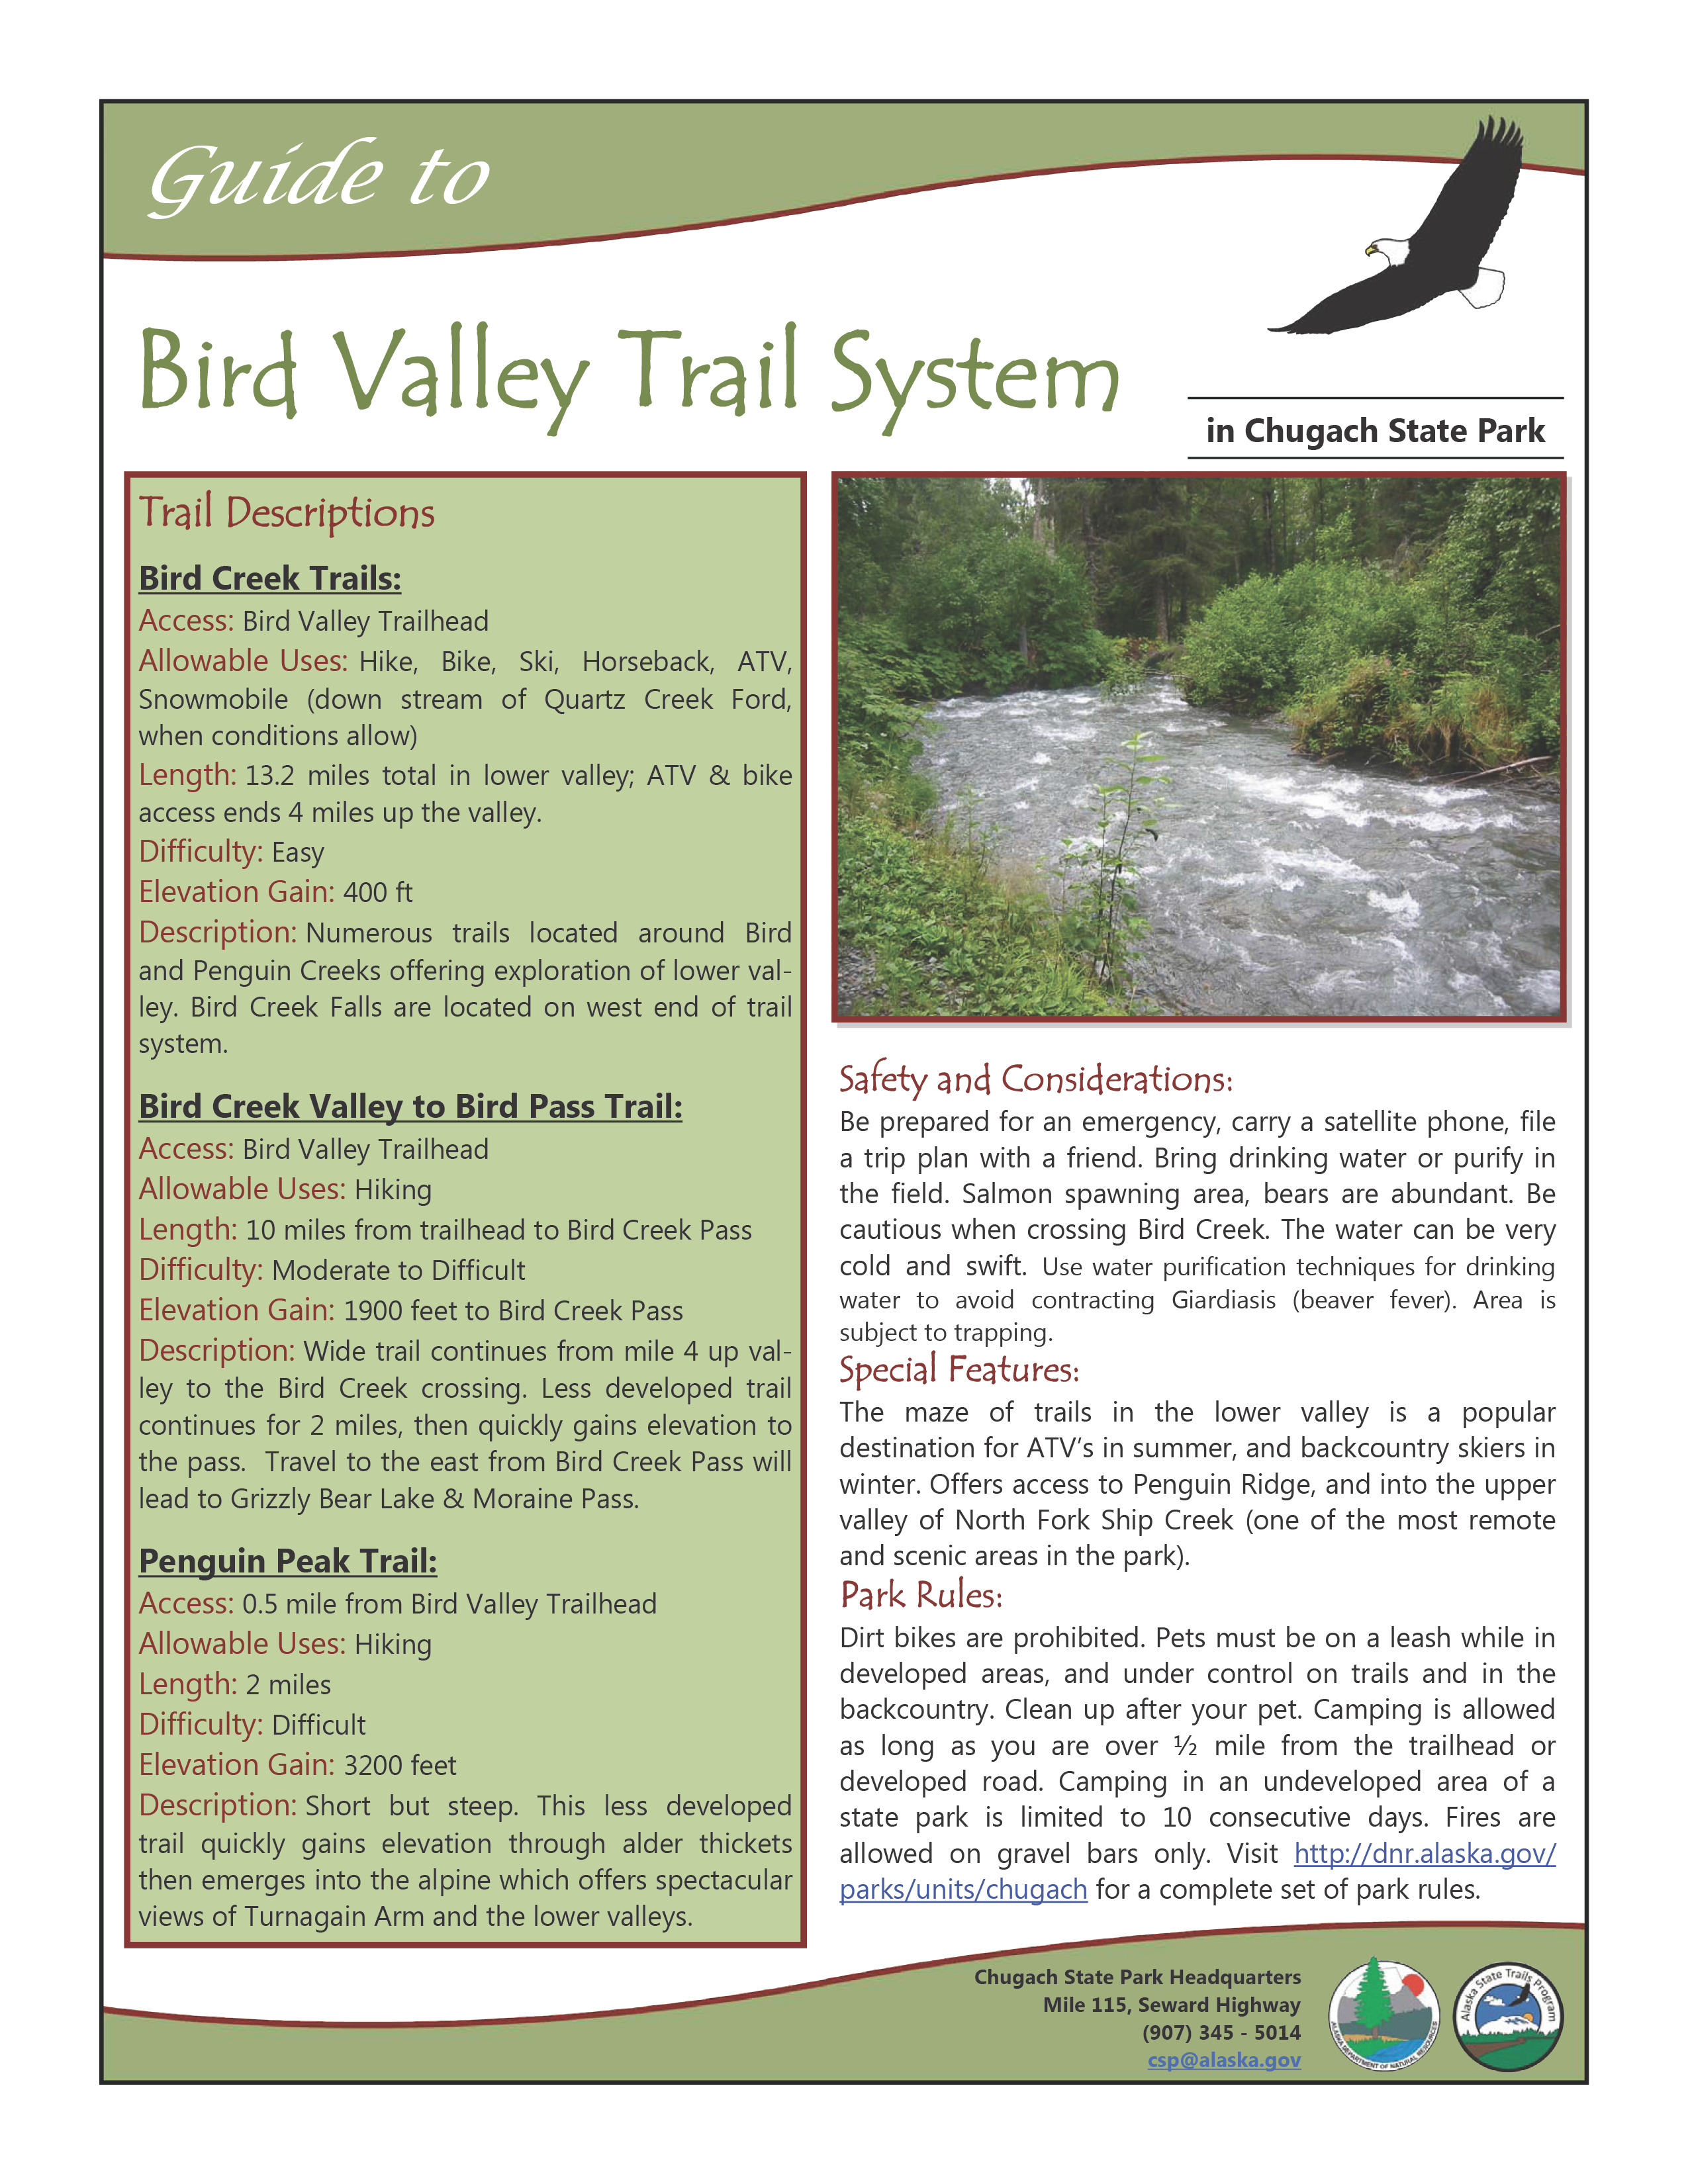figure: (832, 475, 1566, 1026), (1286, 122, 1539, 346), (1316, 1950, 1562, 2085)
section: (138, 324, 1106, 447), (147, 142, 484, 243), (840, 1055, 1238, 1106), (135, 1087, 693, 1122), (837, 1049, 1232, 1099), (138, 480, 433, 539), (840, 1344, 1090, 1399), (128, 1546, 436, 1588), (138, 562, 410, 599), (837, 1581, 1004, 1622)
text: (147, 610, 793, 1051), (135, 1138, 793, 1521), (135, 1597, 789, 1934), (832, 1622, 1578, 1911), (832, 1119, 1550, 1321), (828, 1399, 1559, 1569), (986, 1957, 1301, 2078), (1193, 408, 1550, 456)
